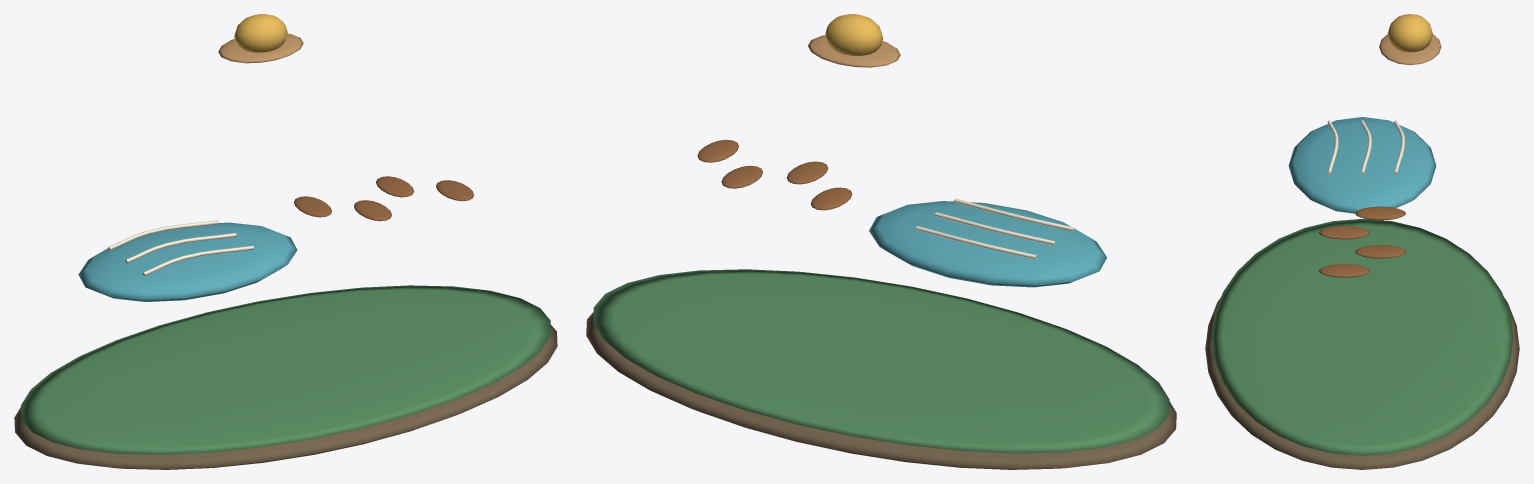
File: complete-third-flowing-walkers.glb
3 renders of one model, left to right at view 1: azimuth 30°, elevation 25°; view 2: azimuth 150°, elevation 25°; view 3: azimuth 270°, elevation 25°, orthographic. The views are drawn at different scales.
Visible parts, largest first — view 1: complete-third-flowing-walkers_surface_01, complete-third-flowing-walkers_surface_02, complete-third-flowing-walkers_surface_00, complete-third-flowing-walkers_surface_04, complete-third-flowing-walkers_surface_06, complete-third-flowing-walkers_surface_03, complete-third-flowing-walkers_surface_05; view 2: complete-third-flowing-walkers_surface_01, complete-third-flowing-walkers_surface_02, complete-third-flowing-walkers_surface_00, complete-third-flowing-walkers_surface_04, complete-third-flowing-walkers_surface_06, complete-third-flowing-walkers_surface_03, complete-third-flowing-walkers_surface_05; view 3: complete-third-flowing-walkers_surface_01, complete-third-flowing-walkers_surface_02, complete-third-flowing-walkers_surface_00, complete-third-flowing-walkers_surface_04, complete-third-flowing-walkers_surface_06, complete-third-flowing-walkers_surface_05, complete-third-flowing-walkers_surface_03.
Boxes of the visible parts, left/top/right/bottom form: complete-third-flowing-walkers_surface_01: left=21, top=285, right=550, bottom=454; complete-third-flowing-walkers_surface_02: left=78, top=222, right=297, bottom=301; complete-third-flowing-walkers_surface_00: left=14, top=324, right=557, bottom=469; complete-third-flowing-walkers_surface_04: left=294, top=176, right=473, bottom=221; complete-third-flowing-walkers_surface_06: left=234, top=14, right=287, bottom=52; complete-third-flowing-walkers_surface_03: left=108, top=220, right=253, bottom=275; complete-third-flowing-walkers_surface_05: left=218, top=33, right=303, bottom=63; complete-third-flowing-walkers_surface_01: left=593, top=269, right=1169, bottom=453; complete-third-flowing-walkers_surface_02: left=869, top=201, right=1106, bottom=287; complete-third-flowing-walkers_surface_00: left=586, top=312, right=1176, bottom=469; complete-third-flowing-walkers_surface_04: left=697, top=139, right=852, bottom=210; complete-third-flowing-walkers_surface_06: left=825, top=14, right=883, bottom=55; complete-third-flowing-walkers_surface_03: left=916, top=198, right=1074, bottom=259; complete-third-flowing-walkers_surface_05: left=808, top=35, right=900, bottom=67; complete-third-flowing-walkers_surface_01: left=1211, top=219, right=1513, bottom=455; complete-third-flowing-walkers_surface_02: left=1288, top=117, right=1436, bottom=213; complete-third-flowing-walkers_surface_00: left=1205, top=297, right=1519, bottom=469; complete-third-flowing-walkers_surface_04: left=1319, top=206, right=1405, bottom=277; complete-third-flowing-walkers_surface_06: left=1387, top=14, right=1432, bottom=52; complete-third-flowing-walkers_surface_05: left=1379, top=34, right=1441, bottom=65; complete-third-flowing-walkers_surface_03: left=1327, top=120, right=1405, bottom=174.
Bounding box in the file's own units: 4.56 × 3.04 × 2.5.
